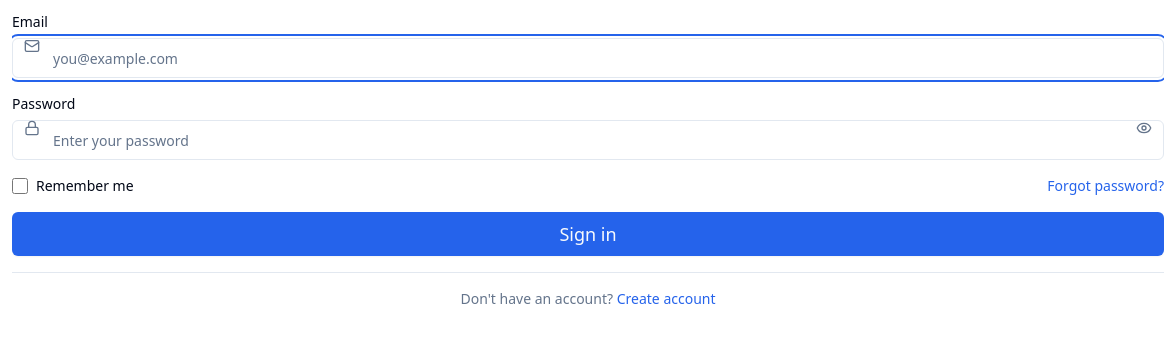
Test: LoginForm › Form Validation › should show error when password is less than 6 characters
Type "test@example.com" into the field labelled "Email" at (588, 58), box top-left (12, 38), bottom-right (1164, 78)
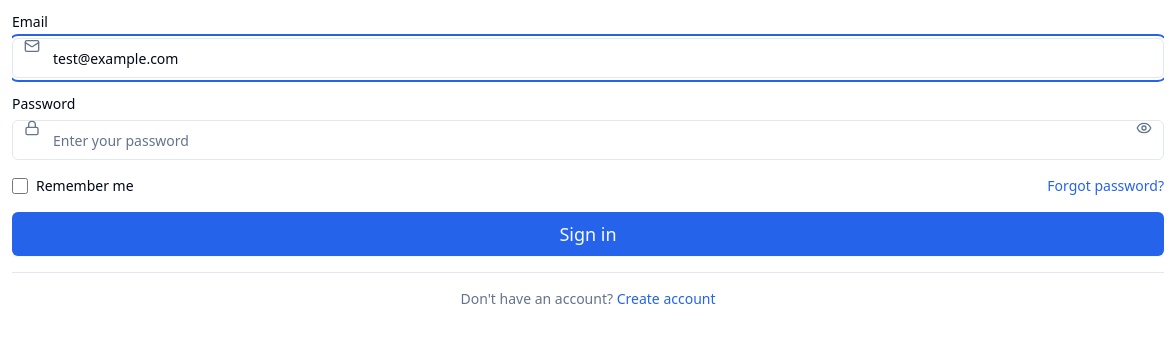
Type "12345" into the password field labelled "Password" at (588, 140), box top-left (12, 120), bottom-right (1164, 160)
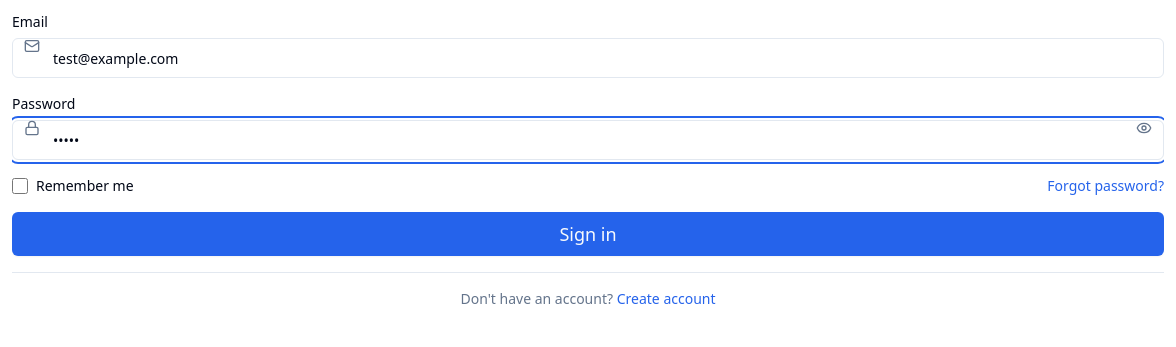
Click the button "Sign in" at (588, 234), box top-left (12, 212), bottom-right (1164, 256)
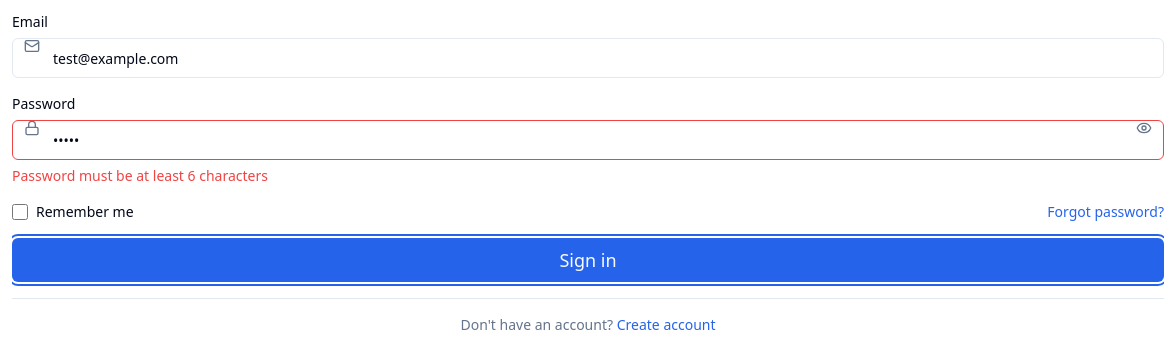
Result: the text "Password must be at least 6 characters" is shown at top-left (12, 166), bottom-right (268, 185)
